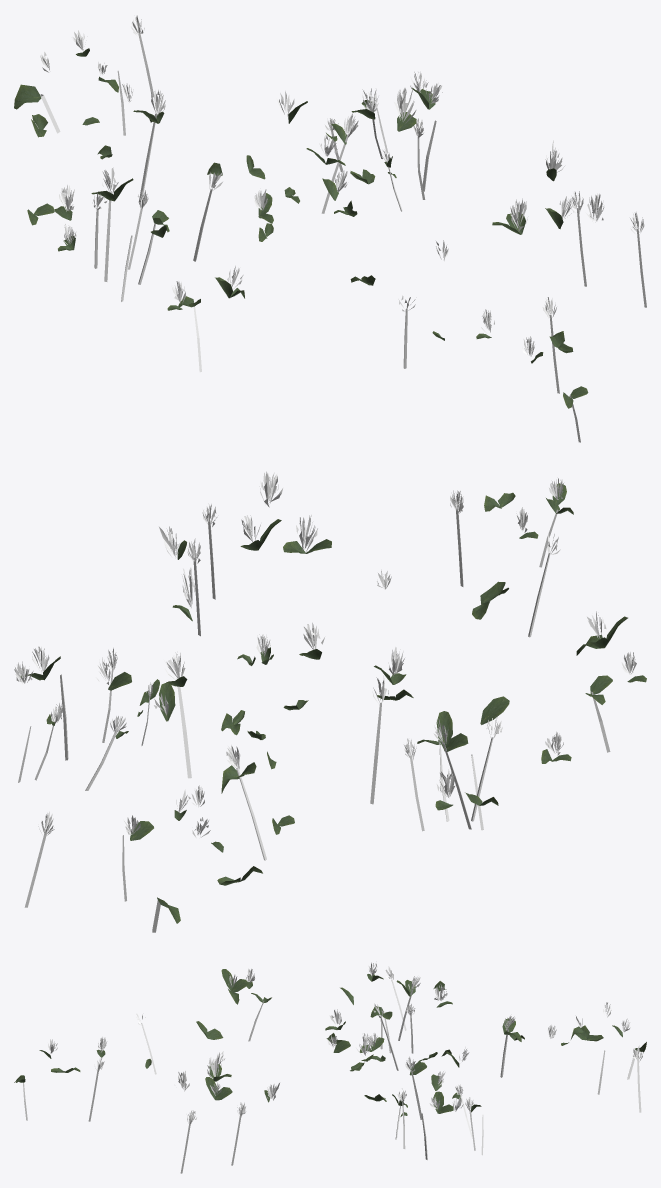
The model's file is clovers_03.gltf.
The picture shows the model from 3 angles, top to bottom: view 1: azimuth 30°, elevation 25°; view 2: azimuth 150°, elevation 25°; view 3: azimuth 270°, elevation 25°; orthographic projection. The views are drawn at different scales.
Parts seen in each view (by area): view 1: Clovers 03; view 2: Clovers 03; view 3: Clovers 03.
Boxes of the visible parts, bbox=[...] form: Clovers 03: bbox=[14, 15, 646, 442]; Clovers 03: bbox=[14, 471, 646, 932]; Clovers 03: bbox=[14, 962, 646, 1173].
Bounding box in the file's own units: 0.4377 × 0.1477 × 0.7582.
3 materials, 1 textured.
